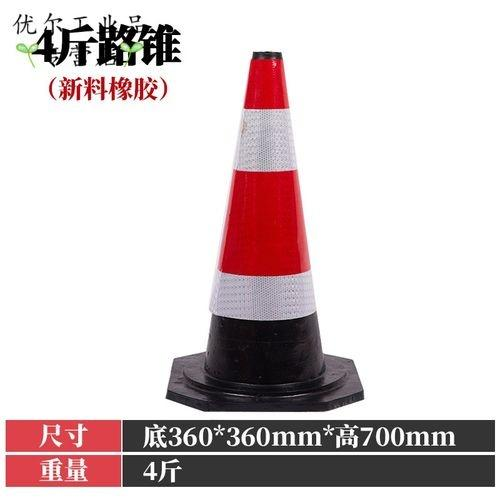cone_barrel: (192, 54, 343, 402)
